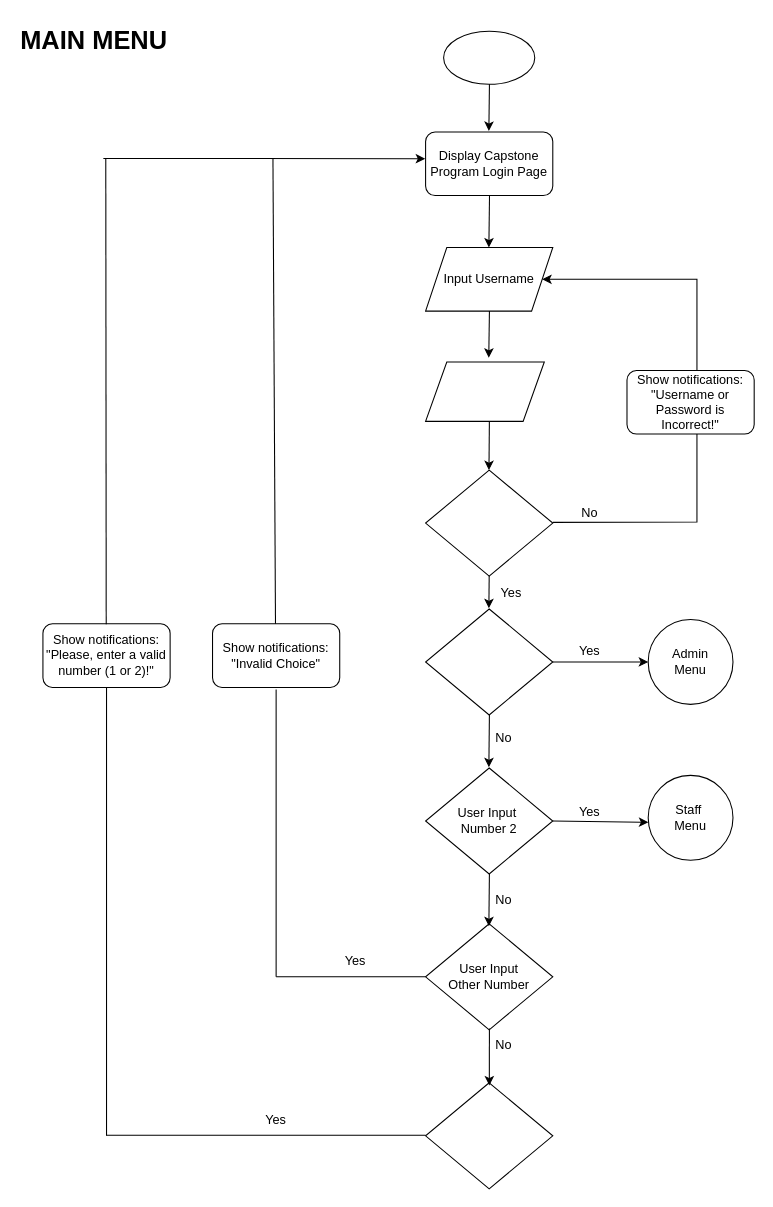
Some shapes in this 773 by 1207 pixel diagram are drawn without their labels. The shapes that lost their labels are listed below. From the top down, each one's centre as x and y in pixels, then its label:
At (489,57): "START".
At (484,391): "Input Password".
At (489,522): "User Authentication".
At (489,661): "User Input Number 1".
At (489,1135): "User Input Strings".
